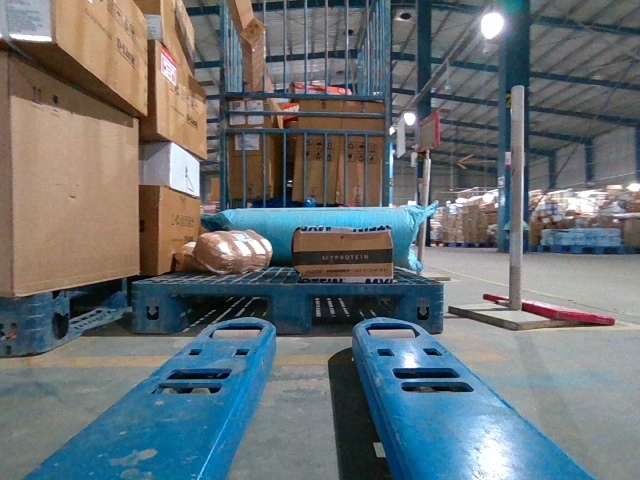pallet: (131, 280, 445, 333)
